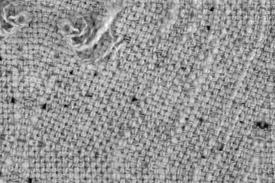snag: (60, 8, 126, 68), (1, 1, 35, 34)
